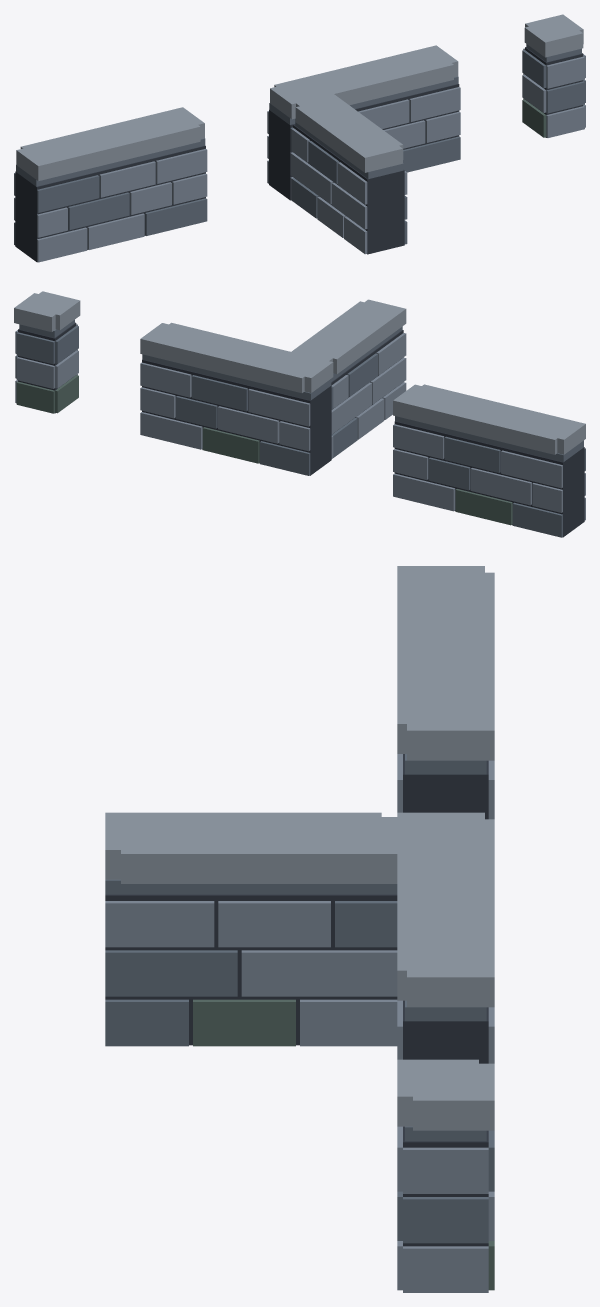
File: gotham_park_wall.glb
3 views of the same model, one above another, from view 1: azimuth 30°, elevation 25°; view 2: azimuth 150°, elevation 25°; view 3: azimuth 270°, elevation 25° (orthographic). The views are drawn at different scales.
Parts seen in each view (by area): view 1: Gotham_Park_Wall_Corner, Gotham_Park_Wall_Straight, Gotham_Park_Wall_Pillar; view 2: Gotham_Park_Wall_Corner, Gotham_Park_Wall_Straight, Gotham_Park_Wall_Pillar; view 3: Gotham_Park_Wall_Corner, Gotham_Park_Wall_Straight, Gotham_Park_Wall_Pillar.
Boxes of the visible parts, x1=… form: Gotham_Park_Wall_Corner: x1=267, y1=45, x2=460, y2=254; Gotham_Park_Wall_Straight: x1=14, y1=107, x2=207, y2=262; Gotham_Park_Wall_Pillar: x1=522, y1=14, x2=585, y2=137; Gotham_Park_Wall_Corner: x1=140, y1=299, x2=406, y2=475; Gotham_Park_Wall_Straight: x1=393, y1=384, x2=585, y2=537; Gotham_Park_Wall_Pillar: x1=14, y1=291, x2=80, y2=413; Gotham_Park_Wall_Corner: x1=105, y1=812, x2=494, y2=1063; Gotham_Park_Wall_Straight: x1=397, y1=566, x2=494, y2=819; Gotham_Park_Wall_Pillar: x1=397, y1=1059, x2=494, y2=1292.
Size of the model in its own units: 6.5 by 1.1 by 2.
